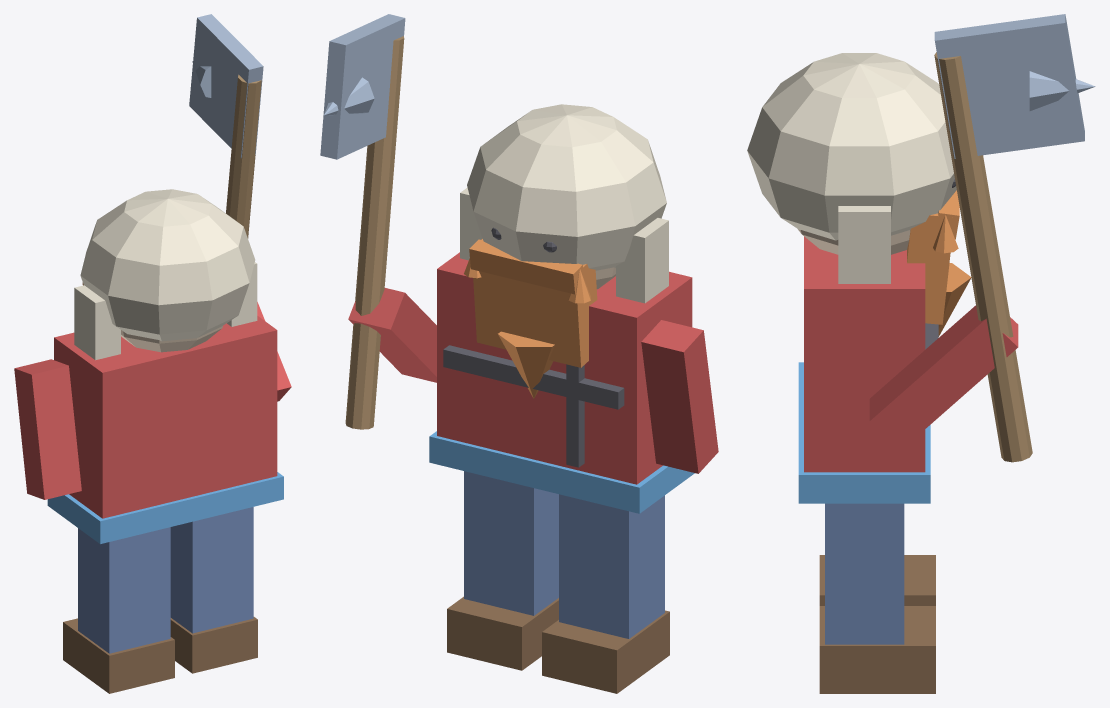
The model's file is lumberjack.glb.
The picture shows the model from 3 angles, left to right: view 1: azimuth 30°, elevation 25°; view 2: azimuth 150°, elevation 25°; view 3: azimuth 270°, elevation 25°; orthographic projection. The views are drawn at different scales.
Parts seen in each view (by area): view 1: lumberjack; view 2: lumberjack; view 3: lumberjack.
Part boxes in pixels (x1=…): lumberjack: x1=14, y1=14, x2=291, y2=693; lumberjack: x1=320, y1=14, x2=718, y2=693; lumberjack: x1=747, y1=14, x2=1095, y2=693.
Bounding box in the file's own units: 1.45 × 2.93 × 1.32.
